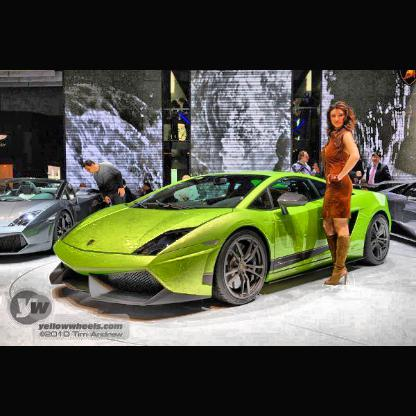Lamborghini Gallardo LP 570-4 Superleggera 2012: (52, 171, 393, 308)
